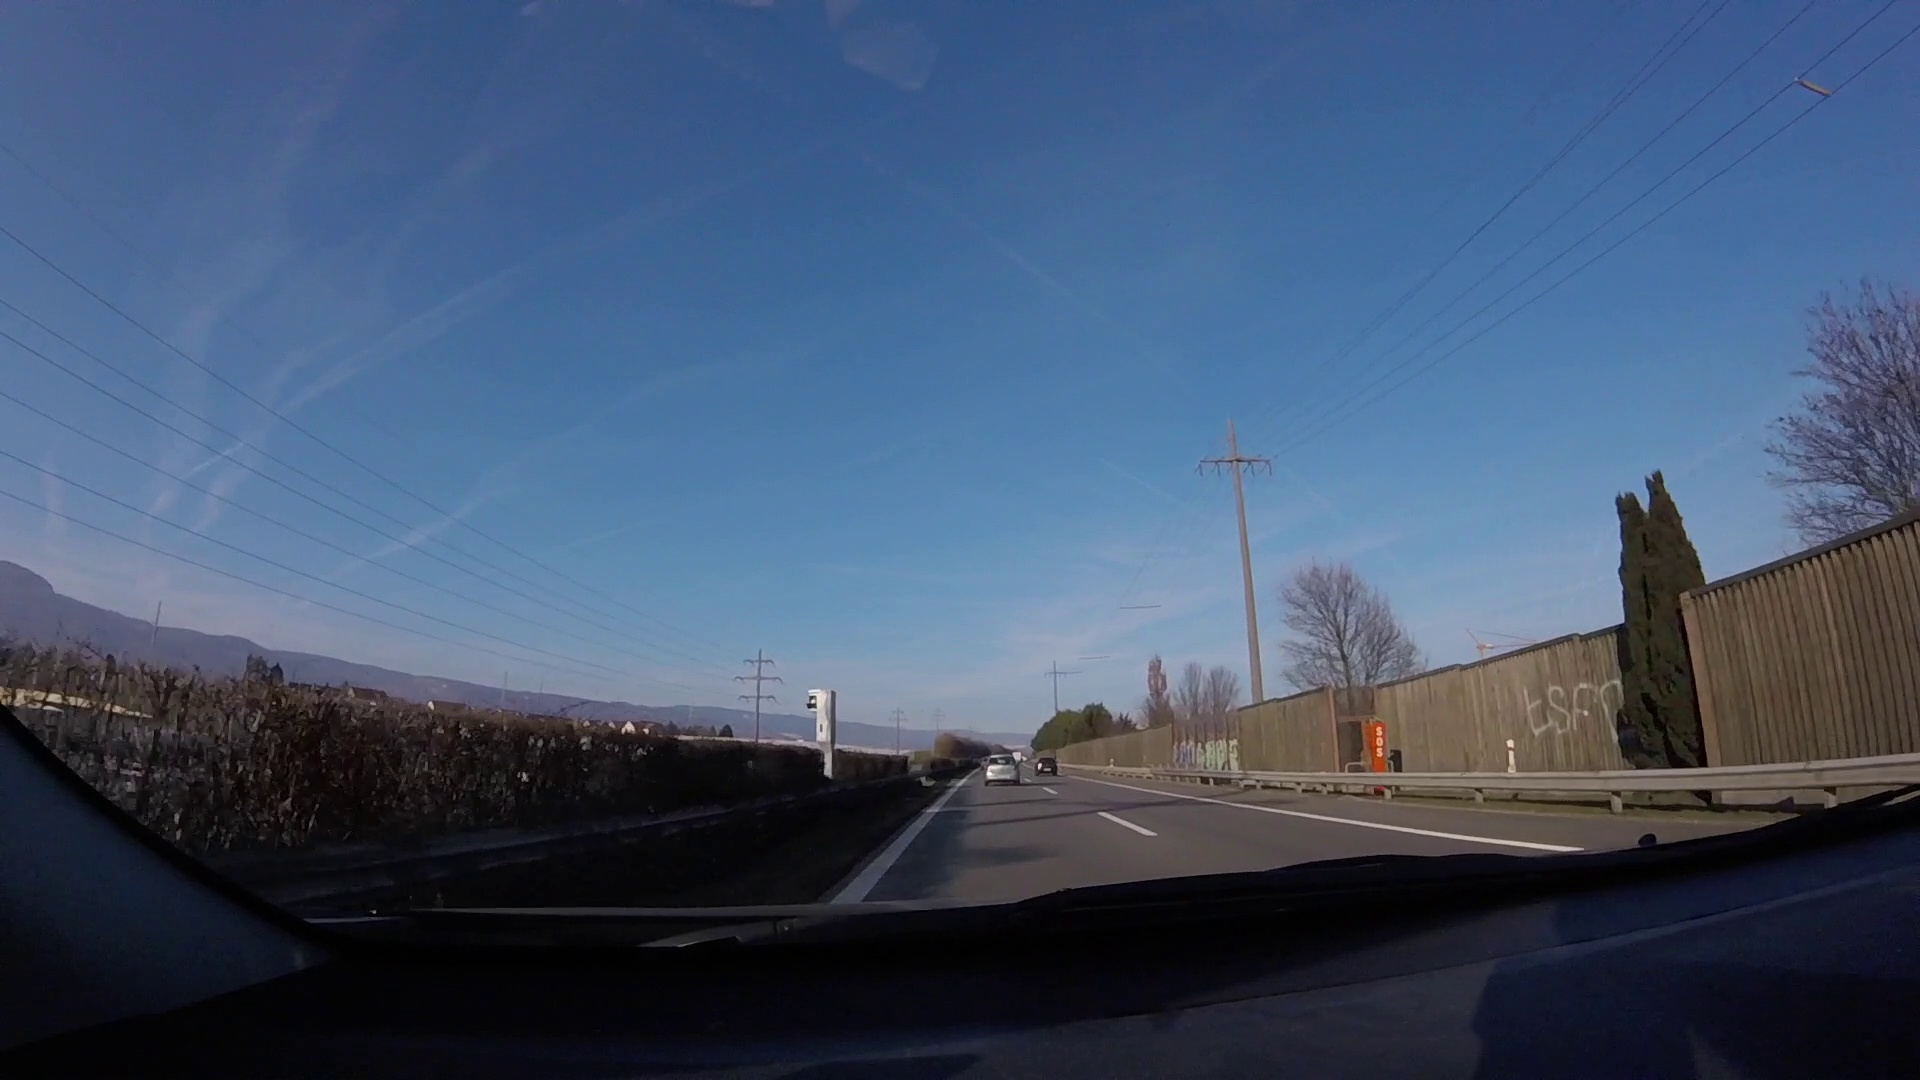radar: (804, 687, 840, 785)
